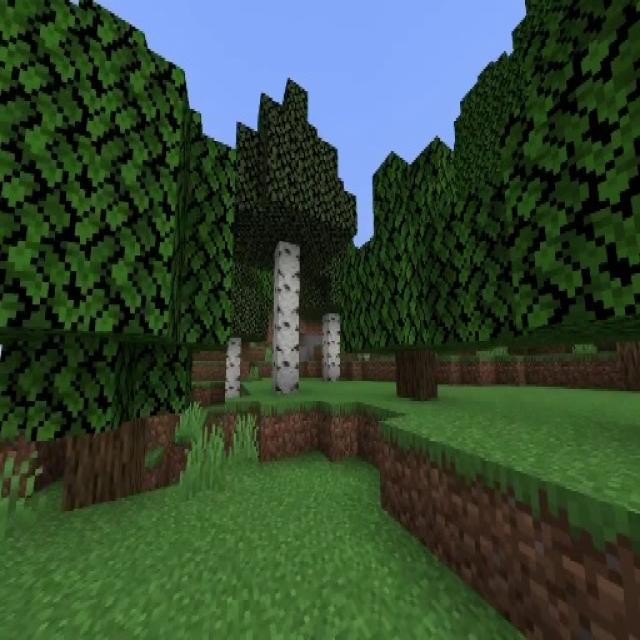birch: (235, 78, 352, 397), (198, 222, 269, 402), (302, 224, 364, 383)
birch_log: (273, 245, 301, 392), (324, 313, 342, 380), (226, 338, 240, 400)
oak: (0, 7, 238, 505), (350, 135, 503, 401)
oak_log: (63, 427, 141, 501), (397, 348, 441, 397)
